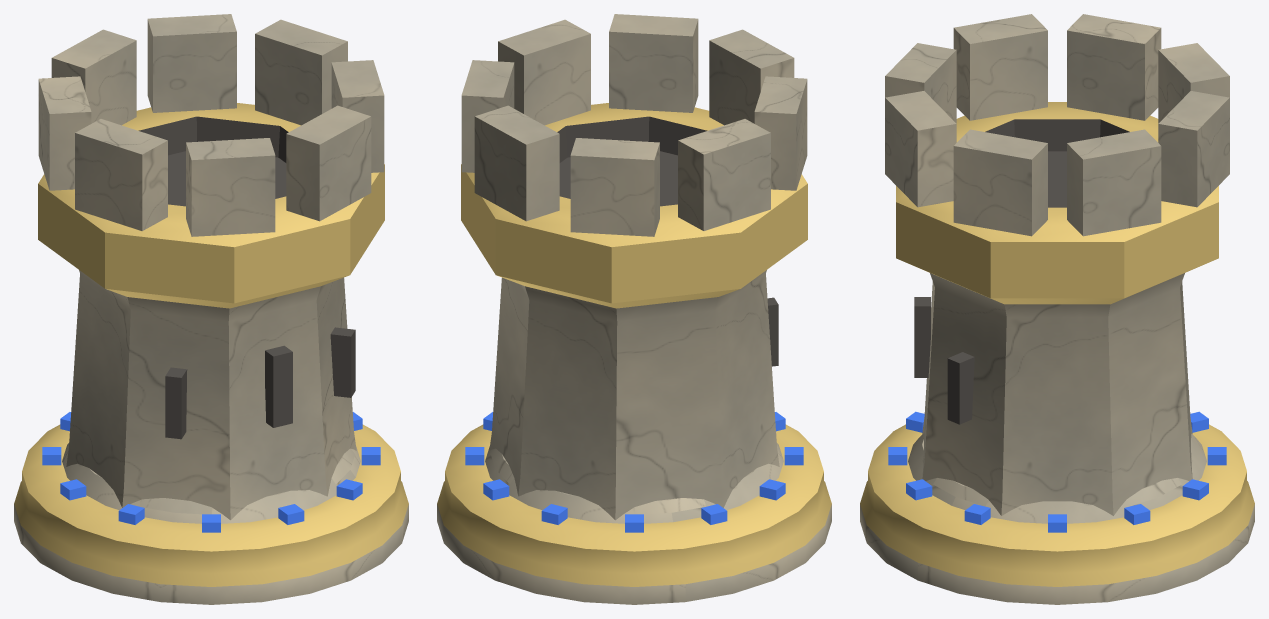
The model's file is rook_light.glb.
3 renders of one model, left to right at view 1: azimuth 30°, elevation 25°; view 2: azimuth 150°, elevation 25°; view 3: azimuth 270°, elevation 25°, orthographic.
Visible parts, largest first — view 1: Piece_Rook_Light_Mesh; view 2: Piece_Rook_Light_Mesh; view 3: Piece_Rook_Light_Mesh.
Boxes of the visible parts, x1=… form: Piece_Rook_Light_Mesh: x1=14, y1=14, x2=408, y2=604; Piece_Rook_Light_Mesh: x1=437, y1=14, x2=831, y2=604; Piece_Rook_Light_Mesh: x1=860, y1=14, x2=1254, y2=604.
Size of the model in its own units: 0.7 by 0.85 by 0.7.
4 materials, 1 textured.
